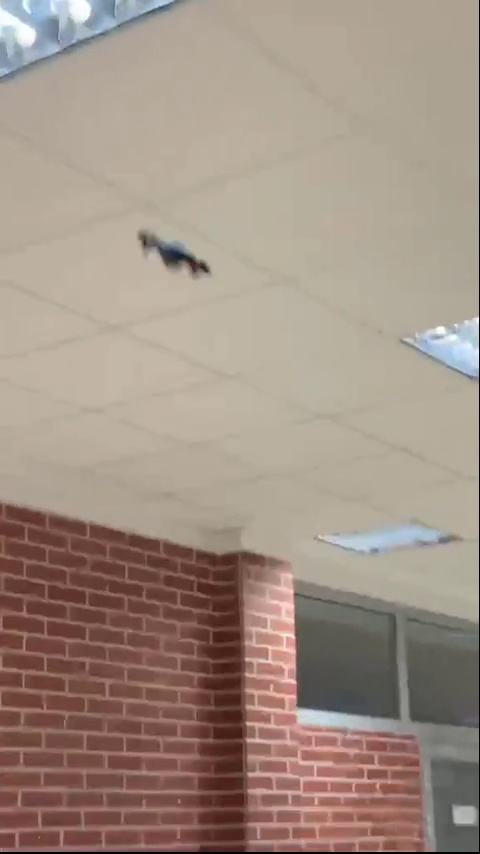drone: (136, 229, 209, 277)
